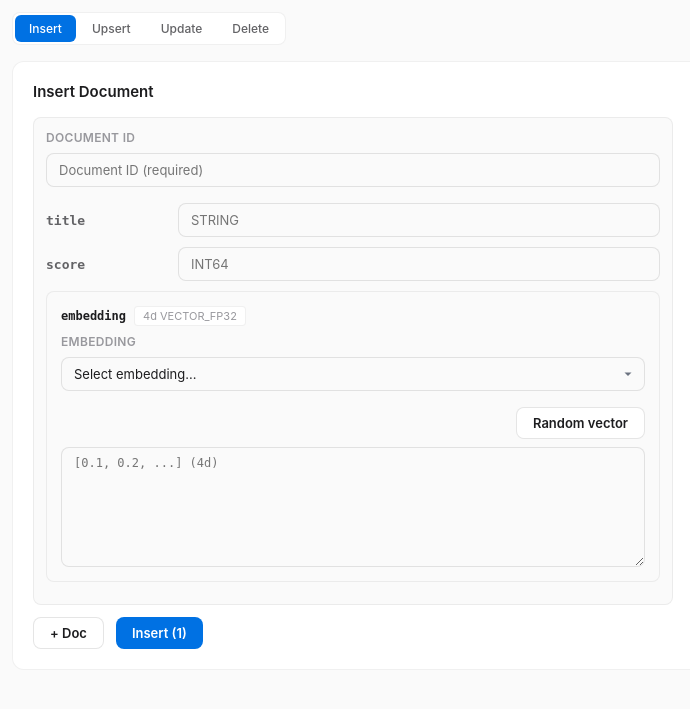
it: MutateTab › switches to Upsert tab and shows form/JSON mode toggle
Click the button "Upsert" at (111, 28), box [78, 15, 145, 42]
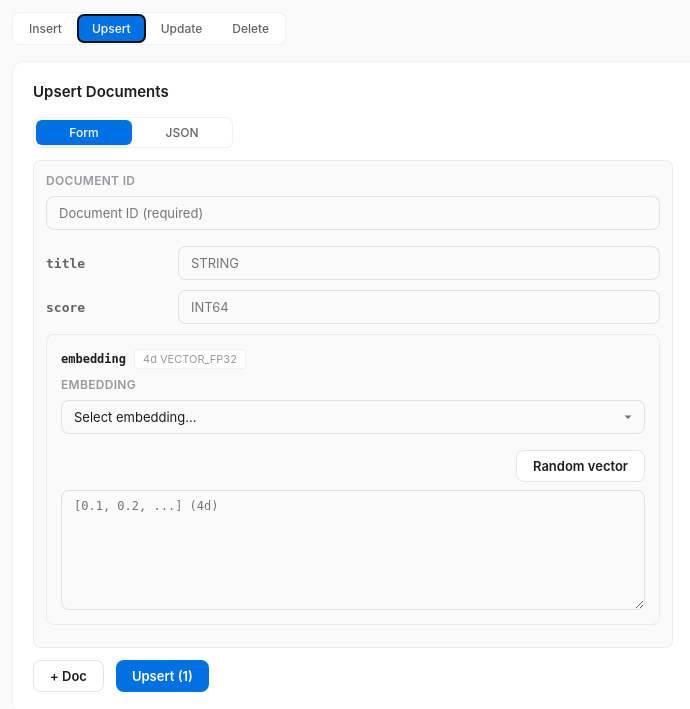
Check: the text "Upsert Documents" is shown, box [33, 82, 169, 101]
Check: the button "Form" is shown, box [36, 120, 132, 145]
Check: the button "JSON" is shown, box [134, 120, 230, 145]
